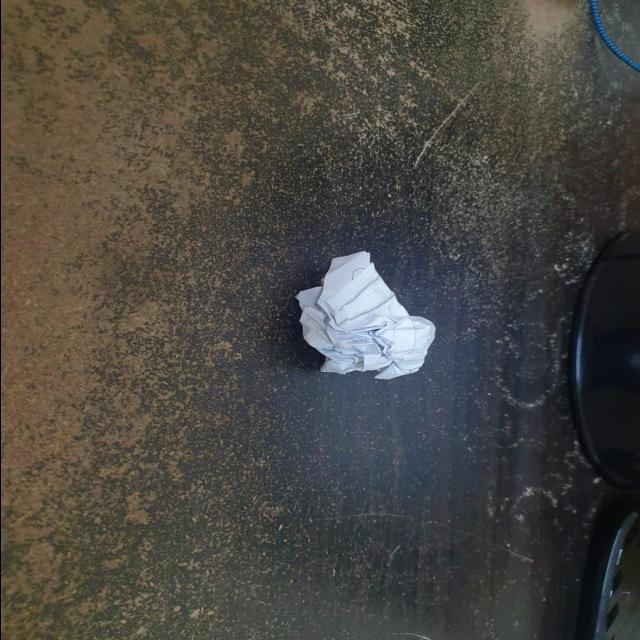kertas: (287, 252, 435, 381)
